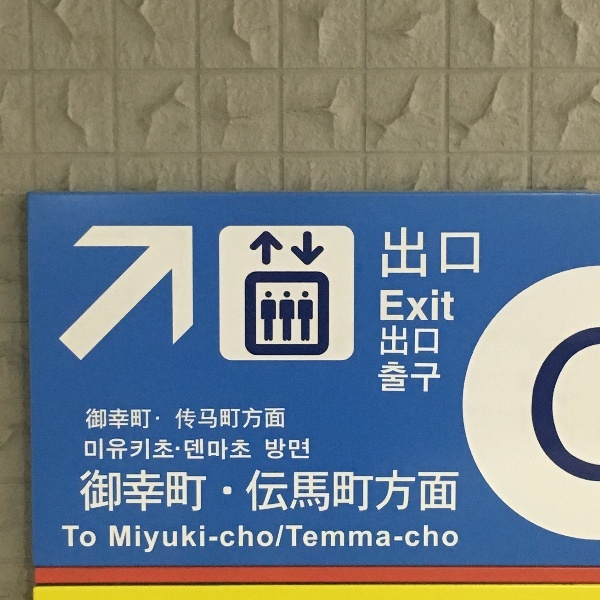text: (385, 228, 400, 279), (401, 228, 416, 279), (417, 228, 432, 279), (433, 228, 448, 279), (449, 228, 464, 279), (465, 228, 480, 279), (81, 470, 96, 513), (97, 470, 112, 513), (113, 470, 128, 513), (129, 470, 144, 513), (145, 470, 160, 513), (161, 470, 176, 513), (177, 470, 192, 513), (257, 471, 272, 513), (273, 471, 288, 513), (289, 471, 304, 513), (305, 471, 320, 513), (321, 471, 336, 513), (337, 471, 352, 513), (353, 471, 368, 513), (369, 471, 384, 513), (385, 471, 400, 513), (401, 471, 416, 513), (417, 471, 432, 513), (433, 471, 448, 513), (193, 470, 207, 513), (385, 289, 400, 322), (401, 289, 416, 322), (417, 289, 432, 322), (433, 289, 448, 322), (113, 524, 128, 555), (129, 524, 144, 555), (145, 524, 160, 555), (161, 524, 176, 555), (177, 524, 192, 555), (193, 524, 208, 555), (209, 524, 224, 555), (225, 524, 240, 555), (241, 524, 256, 555), (257, 524, 272, 555), (273, 524, 288, 555), (289, 524, 304, 555), (305, 524, 320, 555), (321, 524, 336, 555), (337, 524, 352, 555), (353, 524, 368, 555), (369, 524, 384, 555), (385, 524, 400, 555), (401, 524, 416, 555), (417, 524, 432, 555), (433, 524, 448, 555), (385, 362, 400, 393), (401, 362, 416, 393), (417, 362, 432, 393), (245, 471, 256, 513), (449, 471, 460, 513), (385, 326, 400, 356), (401, 326, 416, 356), (417, 326, 432, 356), (65, 526, 80, 549), (81, 526, 96, 549), (97, 439, 112, 461), (113, 439, 128, 461), (129, 439, 144, 461), (145, 439, 160, 461), (161, 439, 176, 461), (177, 439, 192, 461), (193, 439, 208, 461), (209, 439, 224, 461), (225, 439, 240, 461), (97, 407, 112, 429), (113, 407, 128, 429), (129, 407, 144, 429), (177, 407, 192, 429), (193, 407, 208, 429), (209, 407, 224, 429), (225, 407, 240, 429), (241, 407, 256, 429), (257, 407, 272, 429), (273, 439, 288, 460), (289, 439, 304, 460), (273, 407, 287, 429), (449, 524, 458, 555), (85, 439, 96, 461), (241, 439, 252, 461), (86, 407, 96, 429), (433, 362, 440, 393), (378, 362, 384, 393), (433, 326, 439, 356), (449, 289, 454, 322), (145, 407, 152, 429), (380, 289, 384, 322), (266, 439, 272, 460), (305, 439, 310, 460), (382, 228, 384, 279), (381, 326, 384, 356), (110, 524, 112, 555), (62, 526, 64, 549)
